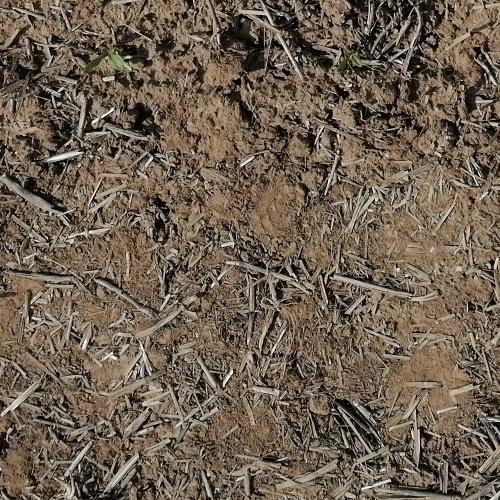beet: (83, 48, 132, 75), (337, 47, 363, 72)
